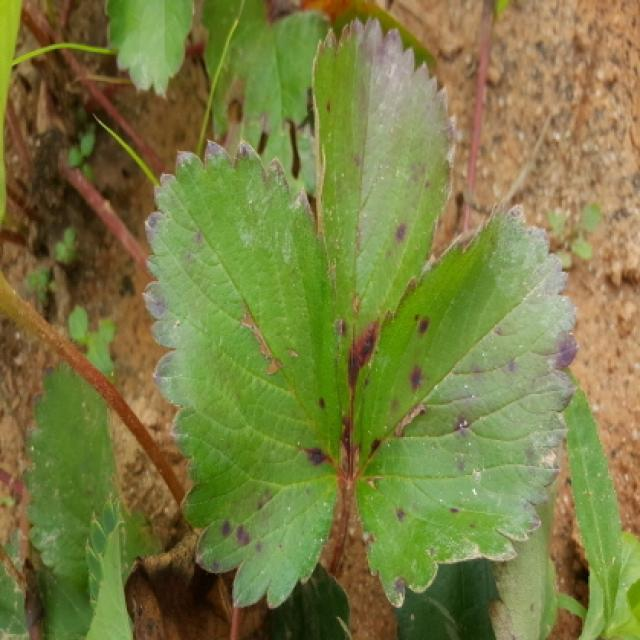Leaf Spot: (140, 137, 347, 610), (349, 200, 580, 612), (312, 15, 458, 452), (486, 486, 559, 638)
